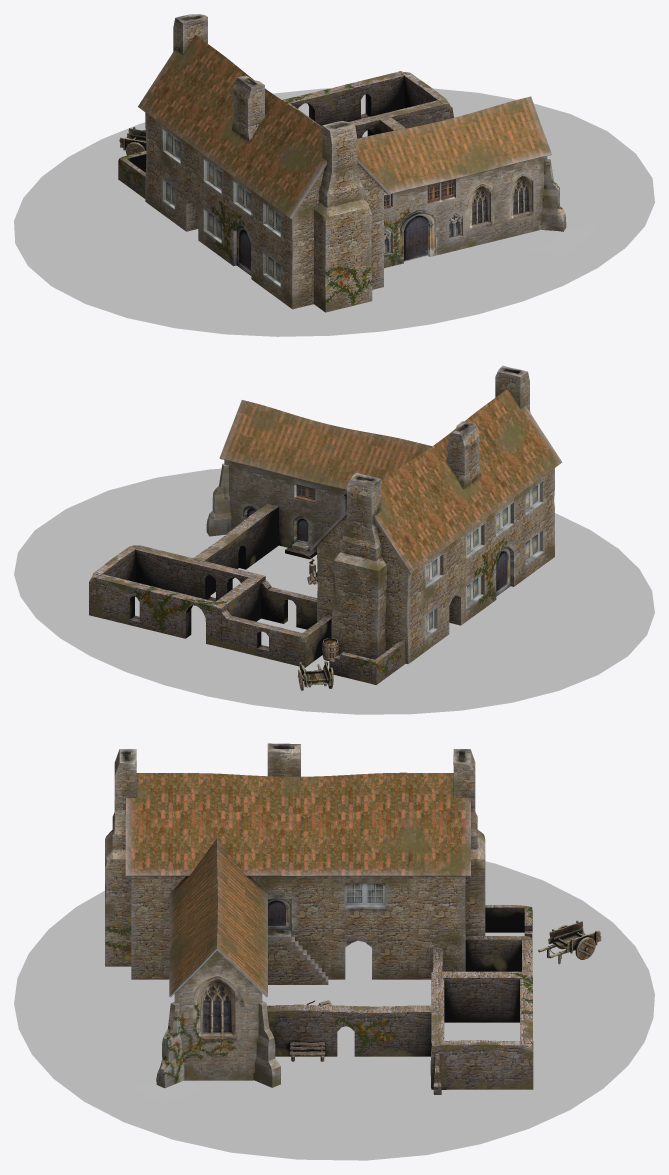
3 renders of one model, top to bottom at view 1: azimuth 30°, elevation 25°; view 2: azimuth 150°, elevation 25°; view 3: azimuth 270°, elevation 25°, orthographic. The views are drawn at different scales.
Visible parts, largest first — view 1: Ground, House, Chapel, Walls, Cart; view 2: Ground, House, Walls, Chapel, Cart; view 3: Ground, House, Walls, Chapel, Cart.
Part boxes in pixels (left/top/right/bottom): Ground: left=14, top=88, right=654, bottom=336; House: left=138, top=14, right=391, bottom=312; Chapel: left=357, top=96, right=566, bottom=268; Walls: left=118, top=71, right=453, bottom=198; Cart: left=119, top=127, right=146, bottom=155; Ground: left=14, top=468, right=654, bottom=714; House: left=310, top=365, right=562, bottom=663; Walls: left=89, top=503, right=405, bottom=684; Chapel: left=206, top=400, right=431, bottom=554; Cart: left=297, top=660, right=333, bottom=690; Ground: left=14, top=861, right=654, bottom=1160; House: left=105, top=743, right=485, bottom=984; Walls: left=267, top=905, right=533, bottom=1094; Chapel: left=156, top=839, right=280, bottom=1088; Cart: left=538, top=920, right=601, bottom=964.
Size of the model in its own units: 2.25 by 0.6558 by 1.91.
